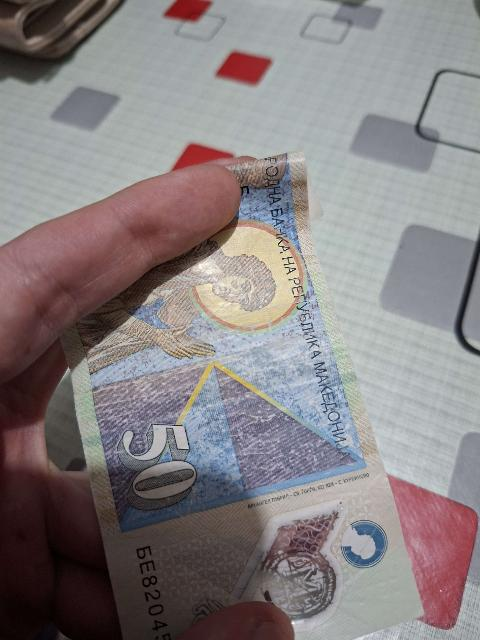note: (63, 152, 422, 639)
